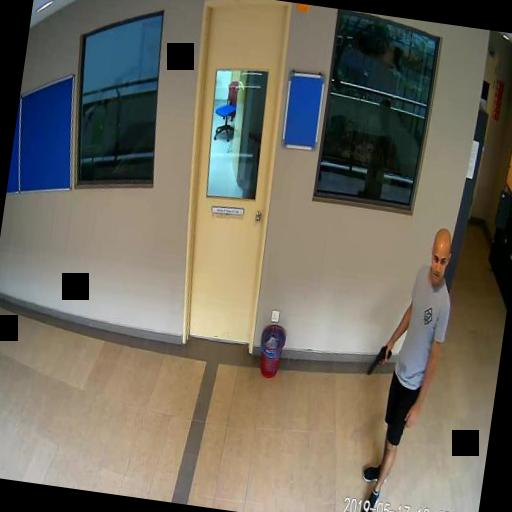Handgun: (366, 342, 391, 376)
